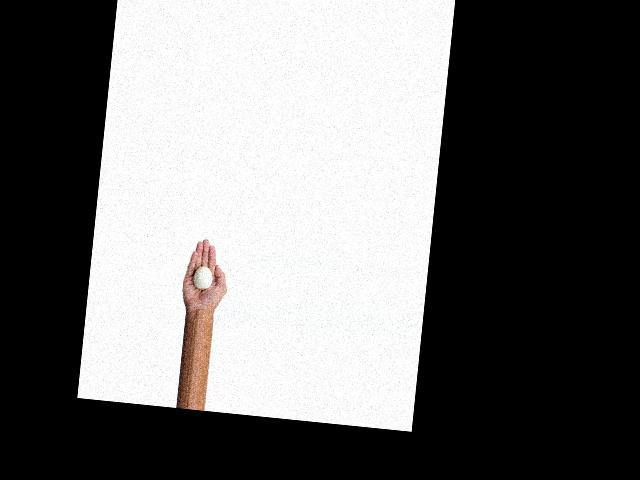egg: (192, 264, 213, 289)
